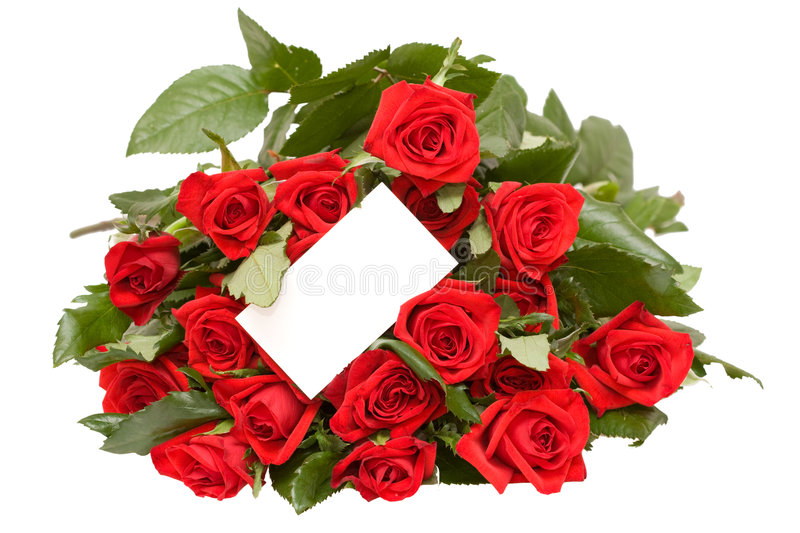RedRose: (365, 80, 479, 188), (394, 257, 494, 379), (580, 309, 690, 411), (491, 159, 586, 269), (469, 389, 590, 475), (152, 417, 259, 506), (176, 169, 280, 257), (93, 340, 190, 424), (232, 370, 316, 461), (369, 172, 474, 243), (339, 361, 444, 427), (99, 235, 174, 322), (277, 147, 347, 239), (344, 446, 439, 506), (501, 267, 568, 342), (180, 312, 253, 375)
